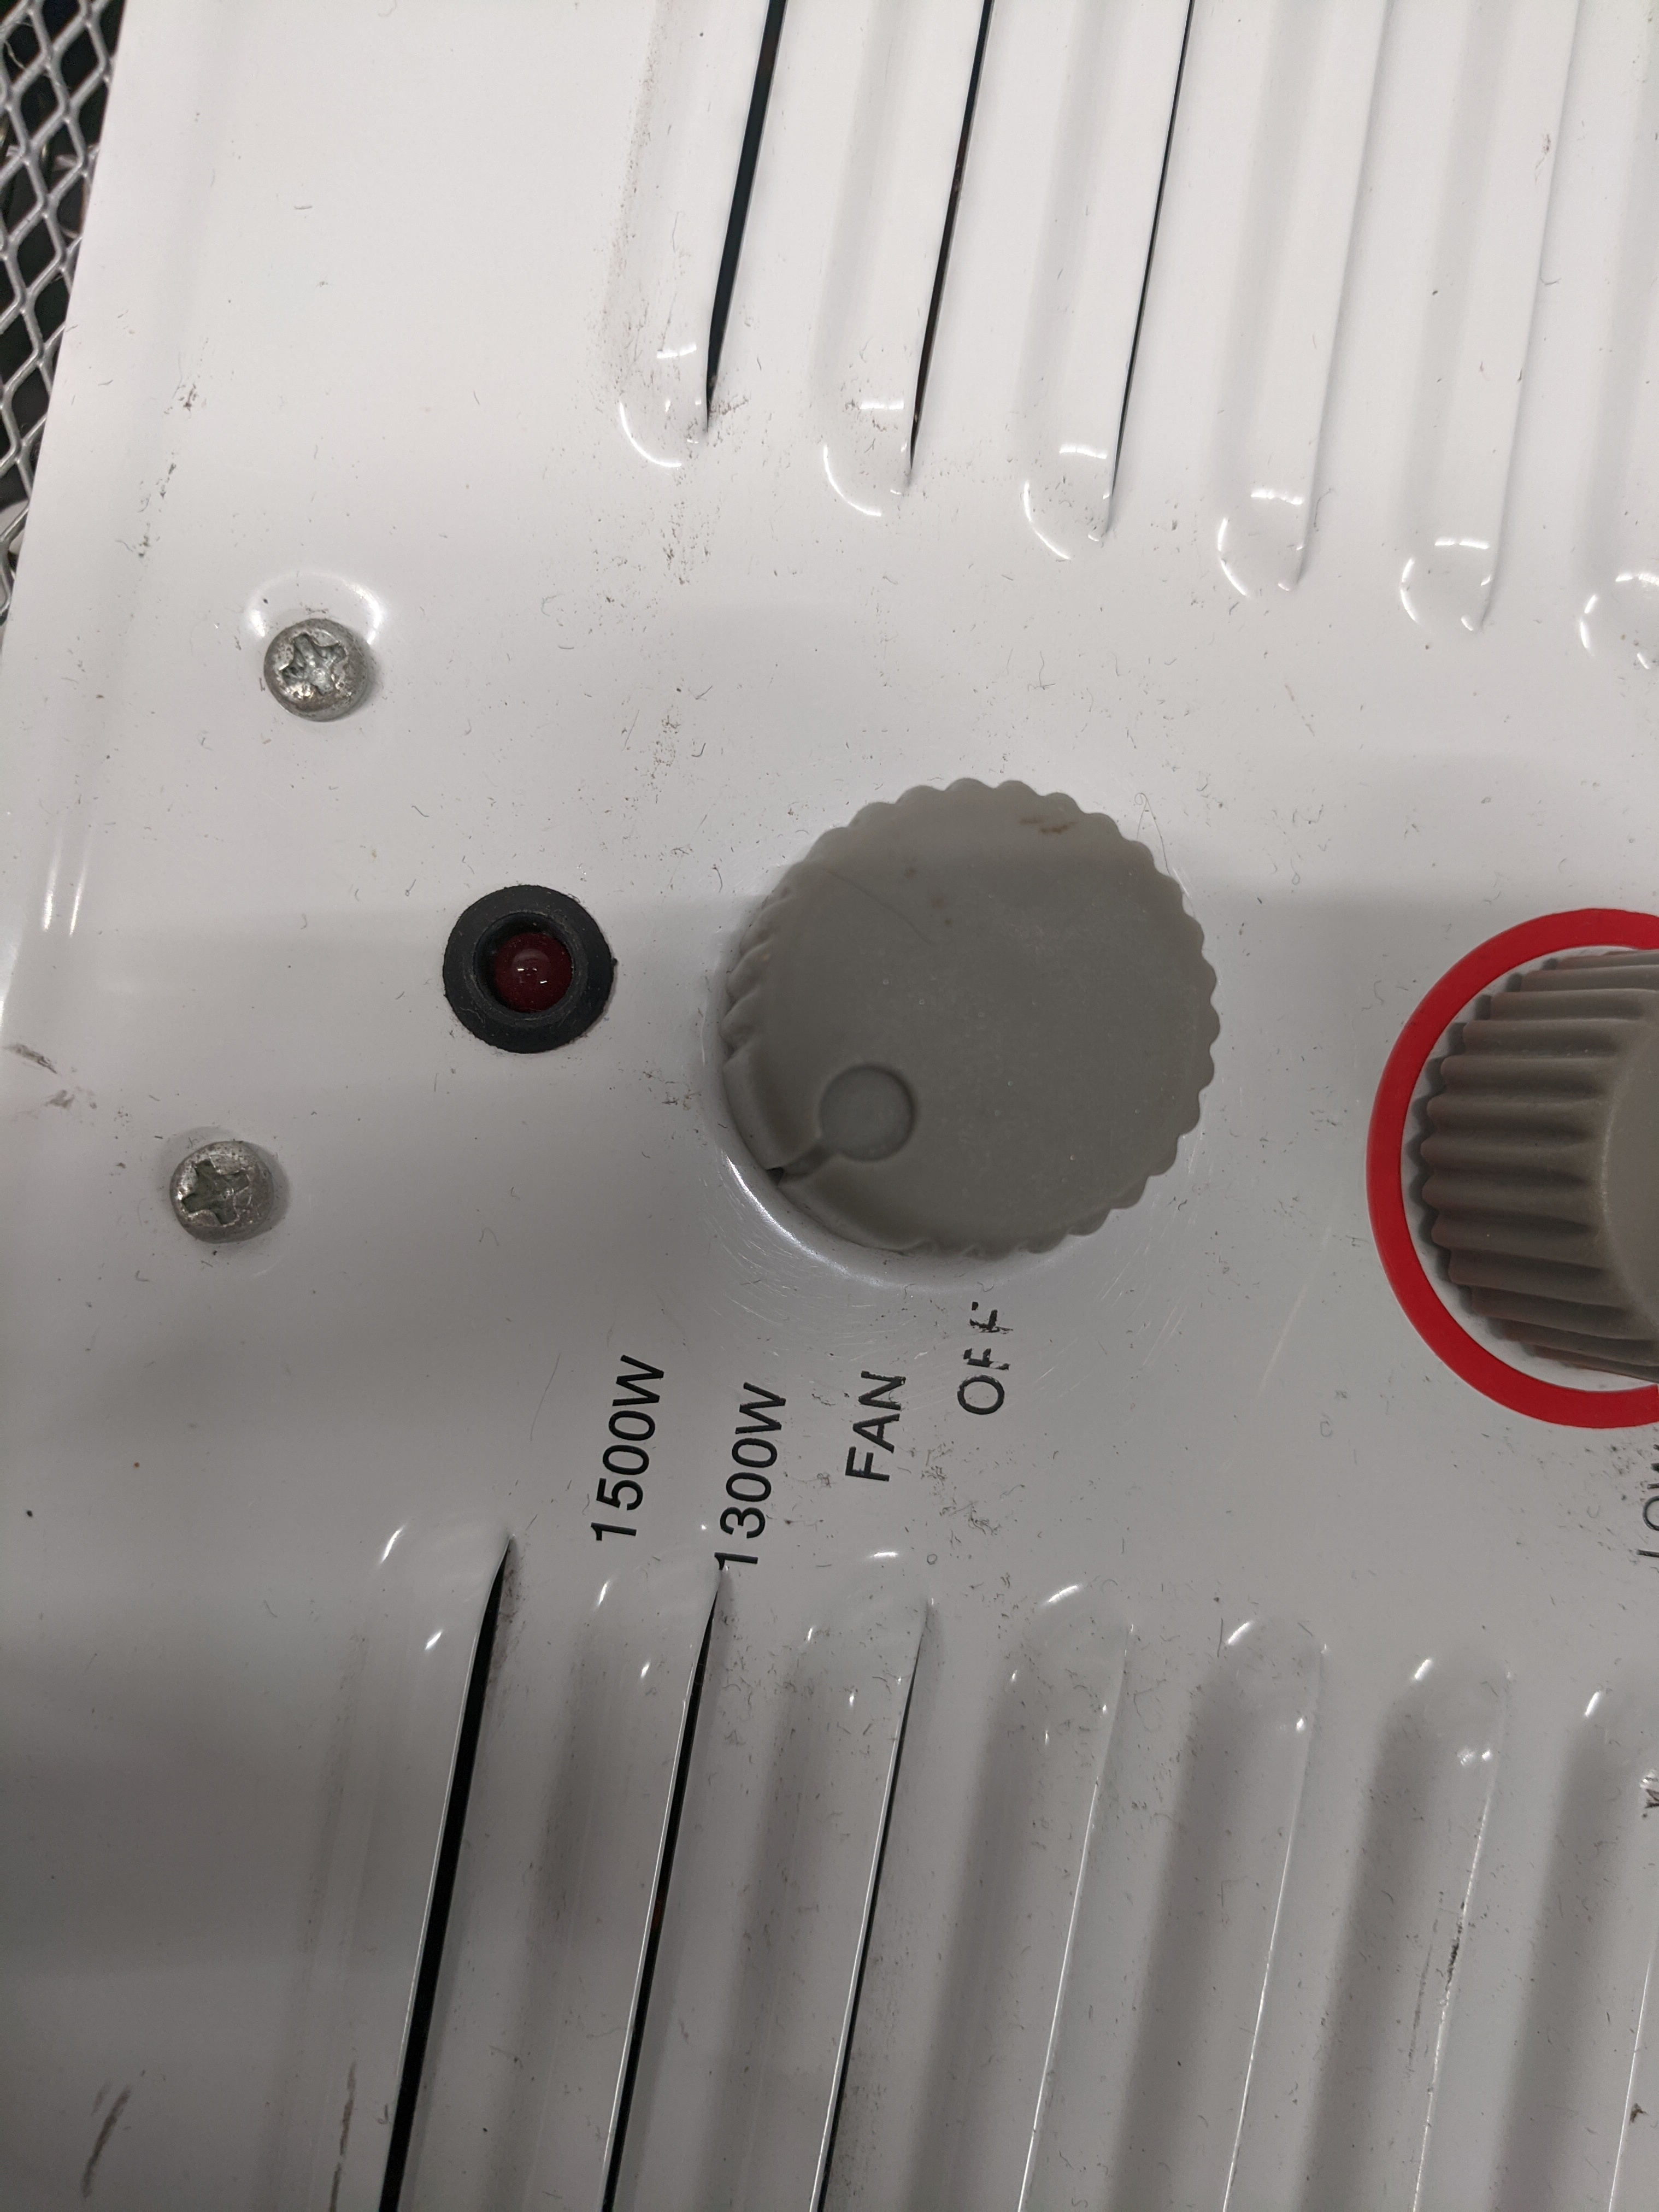cross_recessed_screw: (253, 603, 378, 718), (159, 1132, 270, 1251)
